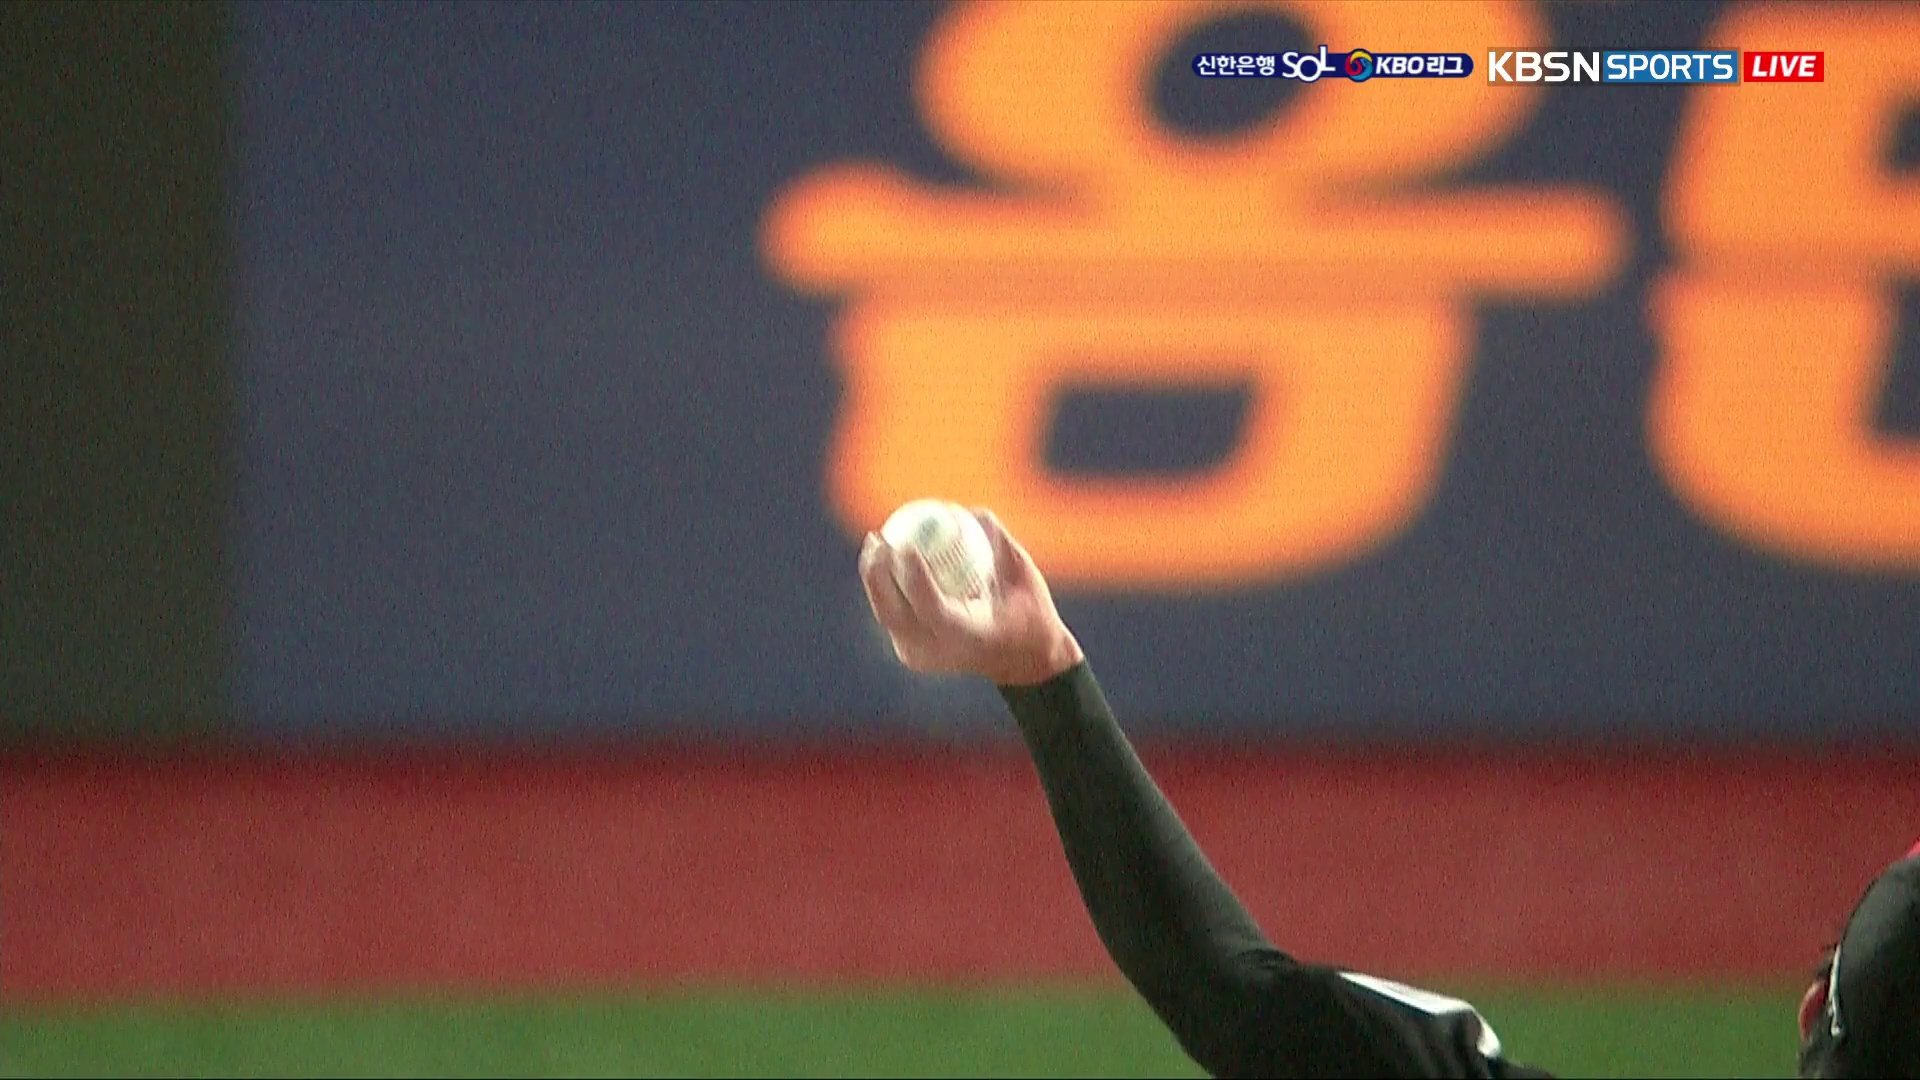zoomin_hand: (851, 489, 1338, 1069)
